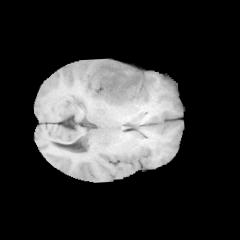glioma: (94, 60, 144, 111)
